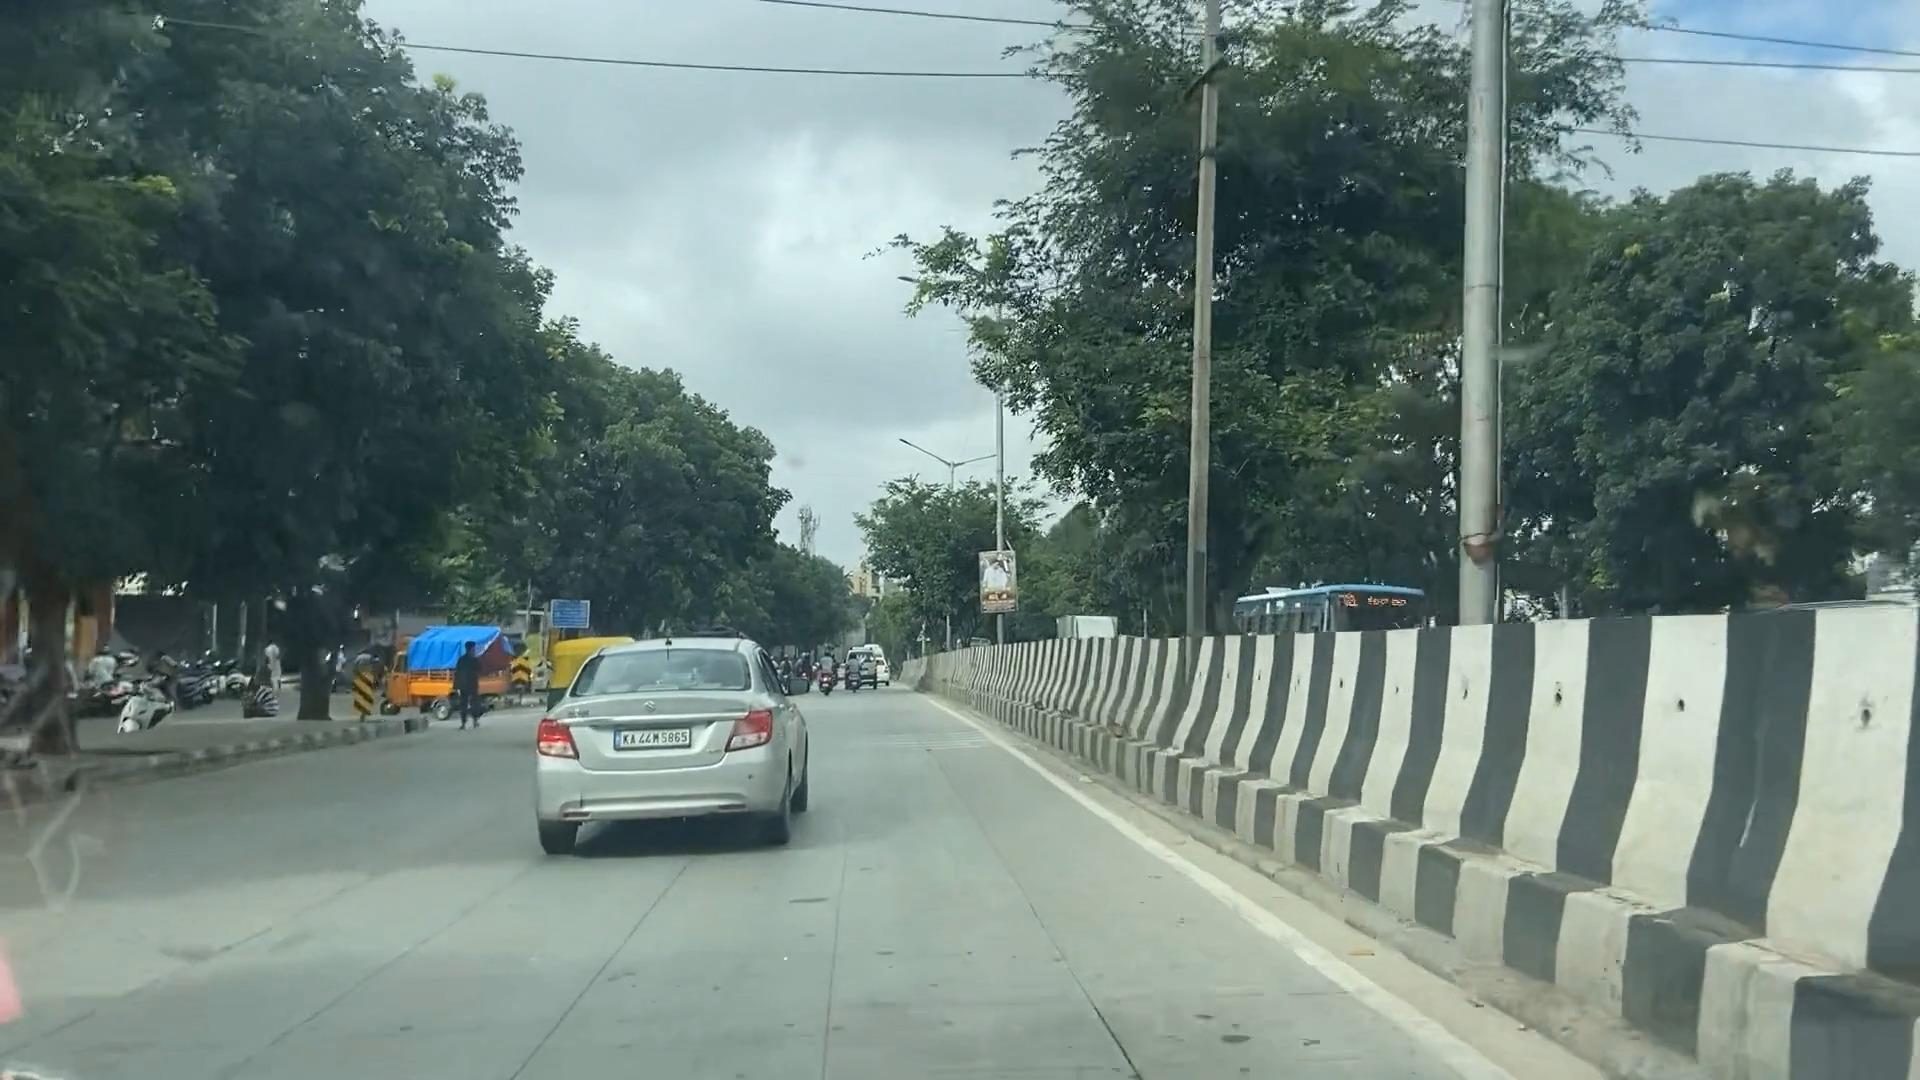LMV: (533, 638, 831, 860)
